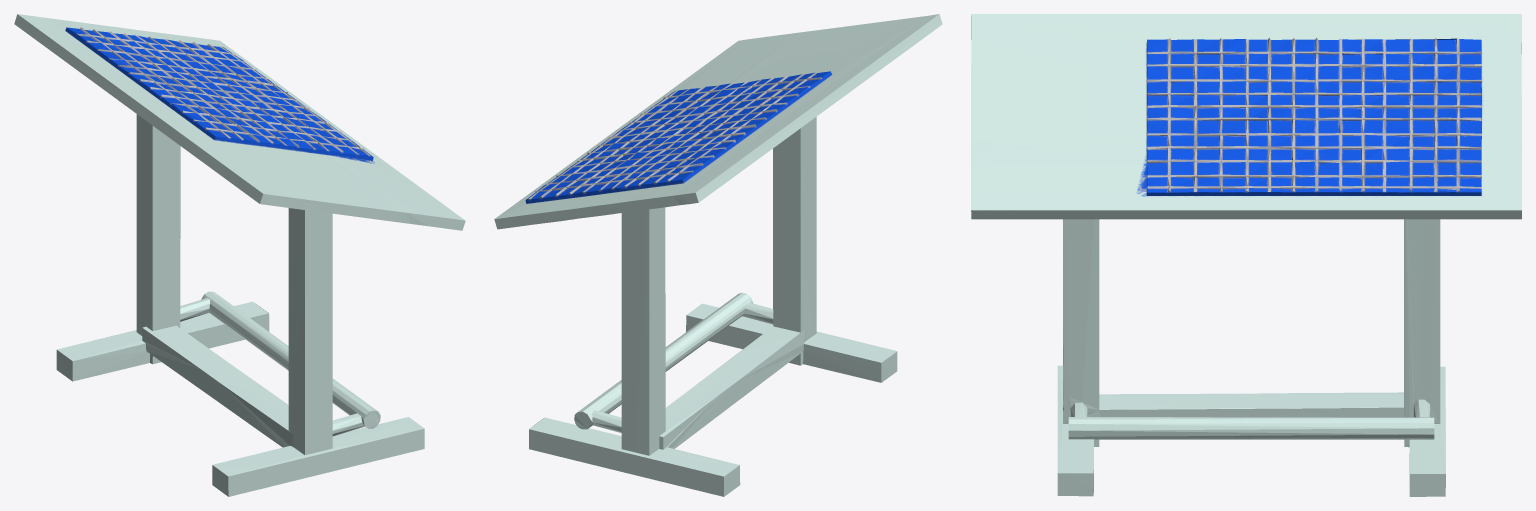
File: zeichentisch.glb
3 views of the same model, side by side, from view 1: azimuth 30°, elevation 25°; view 2: azimuth 150°, elevation 25°; view 3: azimuth 270°, elevation 25° (orthographic). The views are drawn at different scales.
Visible parts, largest first — view 1: 283513_23_05_27_07_42_02_0; view 2: 283513_23_05_27_07_42_02_0; view 3: 283513_23_05_27_07_42_02_0.
Part boxes in pixels (x1,y1,x2,y2): 283513_23_05_27_07_42_02_0: [14, 14, 465, 496]; 283513_23_05_27_07_42_02_0: [494, 14, 942, 496]; 283513_23_05_27_07_42_02_0: [971, 14, 1521, 496].
Size of the model in its own units: 3.82 by 5.89 by 7.9.
1 material, 1 textured.
